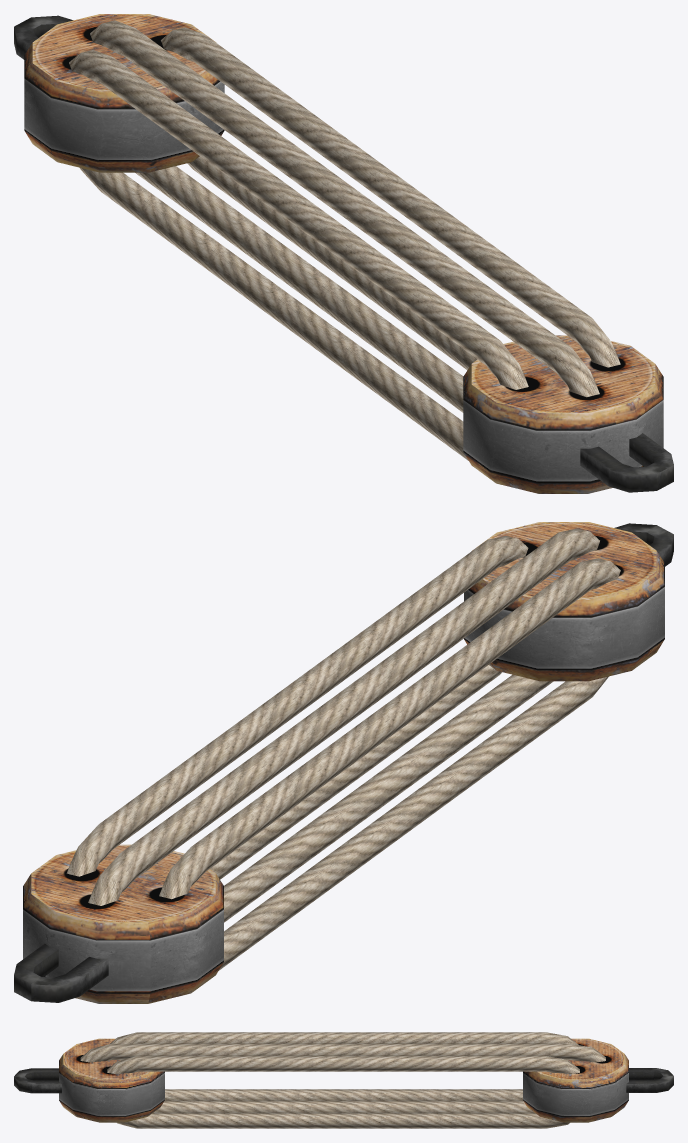
File: Deadeye Lanyard.fbx
3 views of the same model, one above another, from view 1: azimuth 30°, elevation 25°; view 2: azimuth 150°, elevation 25°; view 3: azimuth 270°, elevation 25° (orthographic). The views are drawn at different scales.
Parts seen in each view (by area): view 1: Lanyard, Deadeye Bottom, Deadeye Top; view 2: Lanyard, Deadeye Top, Deadeye Bottom; view 3: Lanyard, Deadeye Bottom, Deadeye Top.
Part boxes in pixels (left/top/right/bottom): Lanyard: left=69, top=20, right=620, bottom=460; Deadeye Bottom: left=463, top=335, right=673, bottom=493; Deadeye Top: left=14, top=14, right=224, bottom=172; Lanyard: left=66, top=528, right=620, bottom=970; Deadeye Top: left=14, top=844, right=223, bottom=1003; Deadeye Bottom: left=464, top=522, right=673, bottom=681; Lanyard: left=80, top=1032, right=605, bottom=1128; Deadeye Bottom: left=14, top=1038, right=164, bottom=1122; Deadeye Top: left=523, top=1038, right=673, bottom=1122.
Bounding box in the file's own units: 19.81 × 123 × 14.42.
2 materials, 2 textured.
